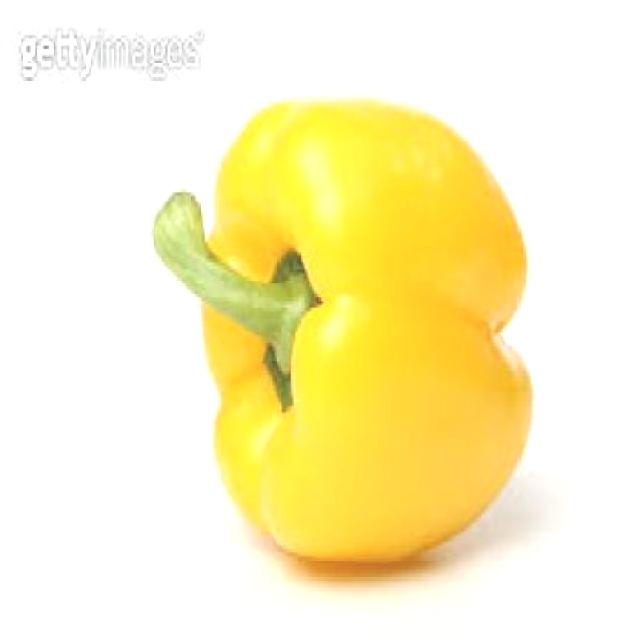Bell Pepper: (132, 81, 560, 582)
